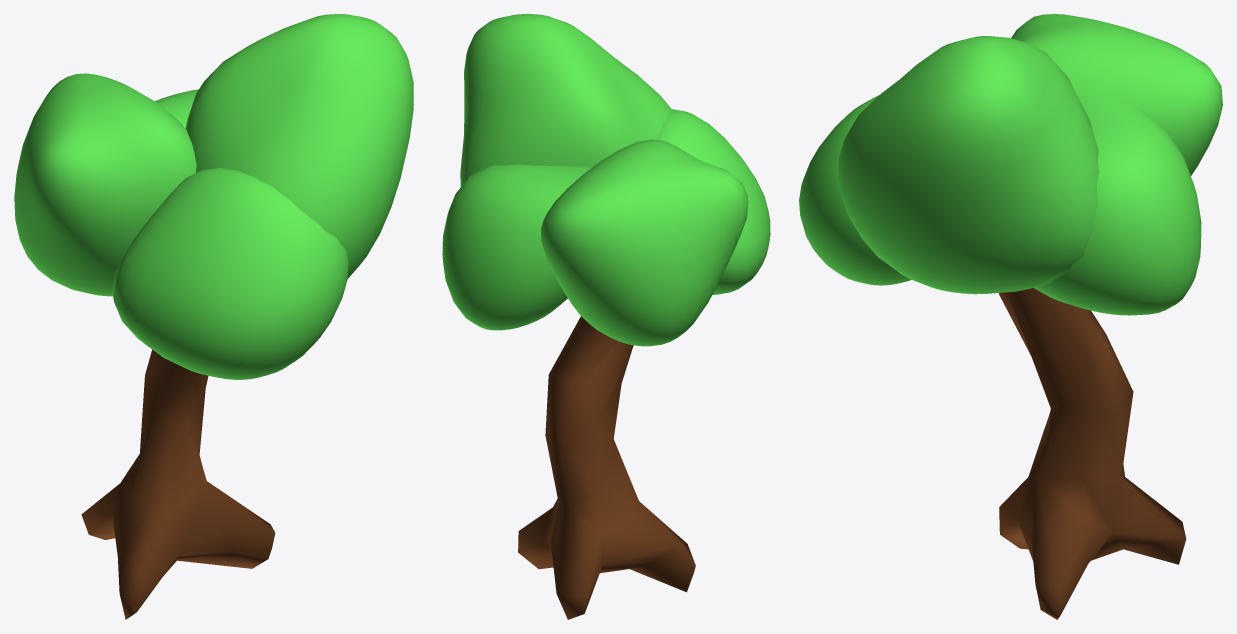
The model's file is bigTree.fbx.
3 views of the same model, side by side, from view 1: azimuth 30°, elevation 25°; view 2: azimuth 150°, elevation 25°; view 3: azimuth 270°, elevation 25° (orthographic). The views are drawn at different scales.
Parts seen in each view (by area): view 1: Cube; view 2: Cube; view 3: Cube.
Boxes of the visible parts, x1,y1,x2,y2 form: Cube: (14,14,413,619); Cube: (442,14,770,619); Cube: (799,14,1222,619).
Size of the model in its own units: 1820 by 2979 by 1906.
